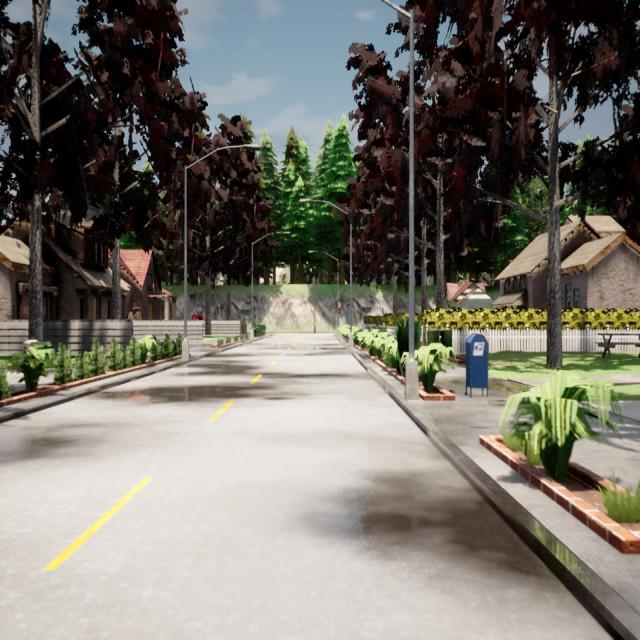traffic_light: (338, 305, 341, 314)
